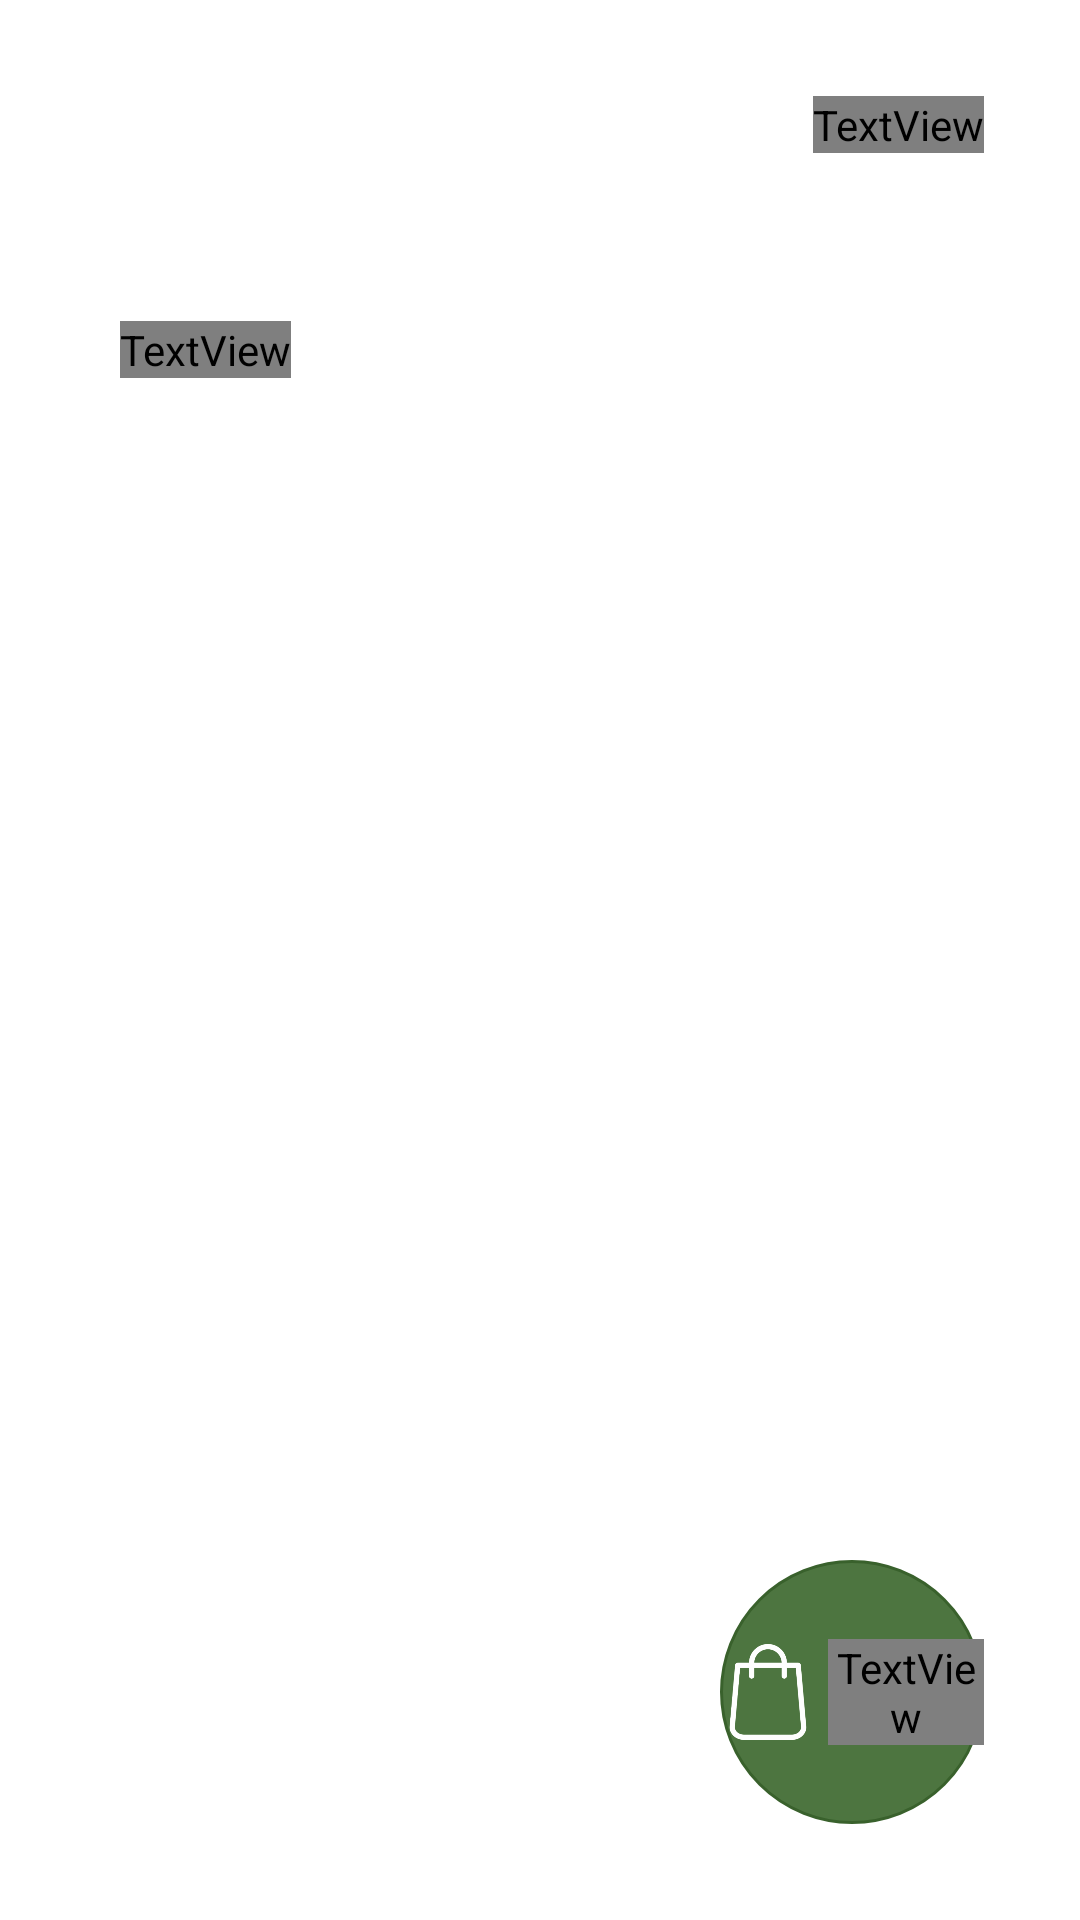

Icons on this 1080 x 1920 Android screen, each with its box as bbox=[x1, y1, x2, y2]:
shopping bag: bbox=[729, 1644, 807, 1740]
